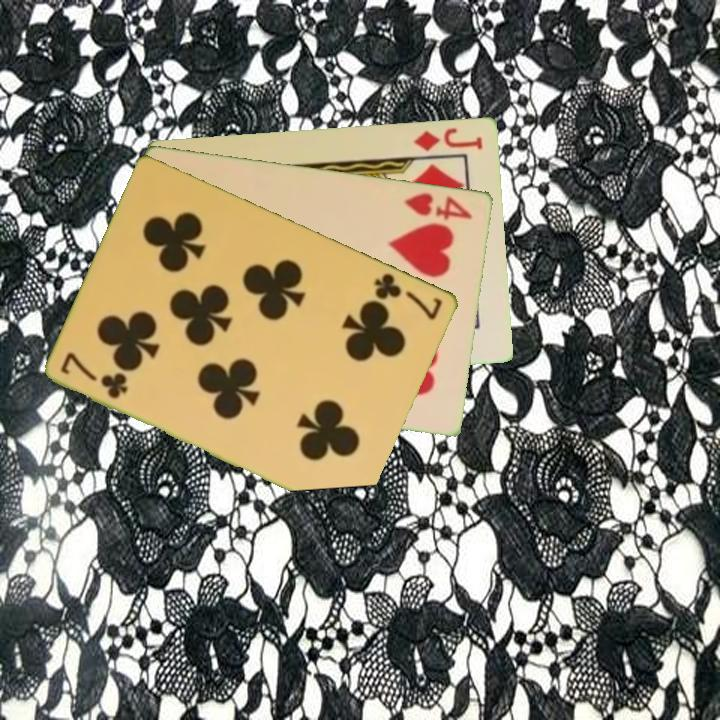4h: (401, 188, 476, 223)
7c: (371, 269, 446, 323), (57, 349, 132, 402)
Jd: (410, 124, 486, 154)
